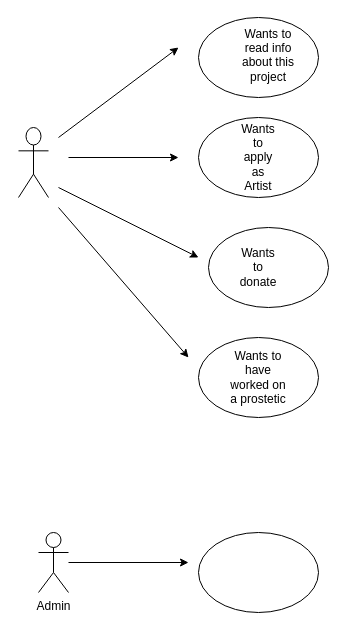
Image size: 346x631. Some labels were removed from this diagram. The box of each missing label's shape, as (x1, y1, x2, y2) in pixels:
Visitor: (18, 126, 48, 198)
Wants to see the work a artist has send in: (198, 532, 318, 612)
